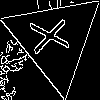X: (30, 14, 79, 55)
